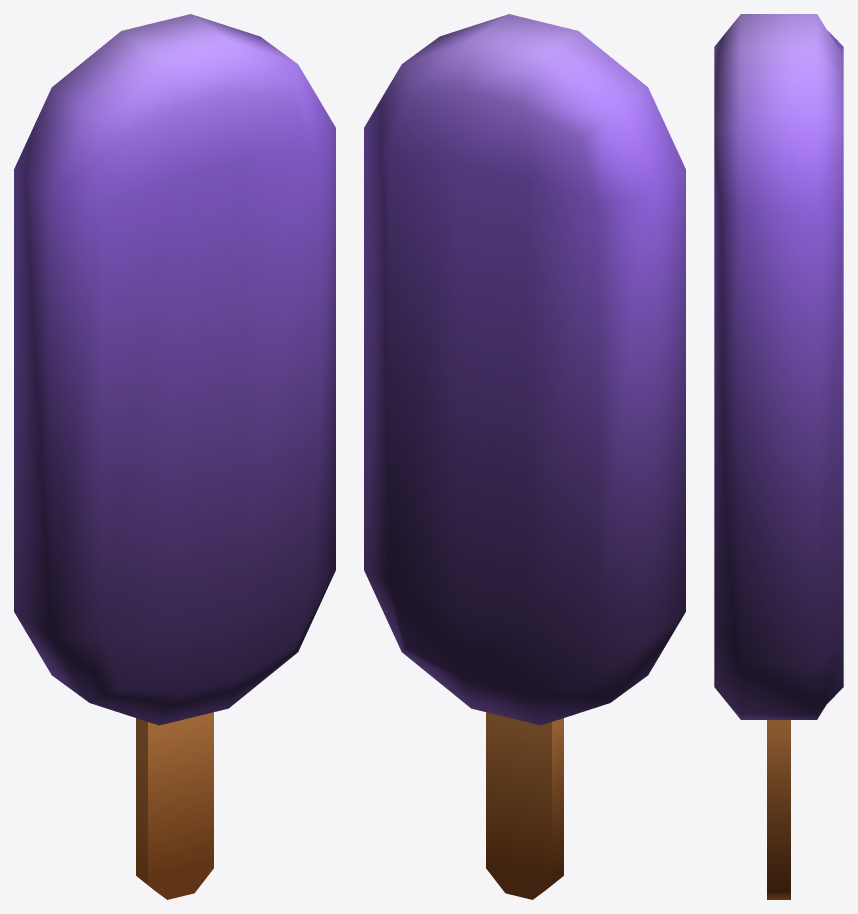
File: m_Popsicle10.fbx
3 renders of one model, left to right at view 1: azimuth 30°, elevation 25°; view 2: azimuth 150°, elevation 25°; view 3: azimuth 270°, elevation 25°, orthographic.
Parts seen in each view (by area): view 1: m_Popsicle10; view 2: m_Popsicle10; view 3: m_Popsicle10.
Part boxes in pixels (bbox=[...]): m_Popsicle10: bbox=[14, 14, 335, 899]; m_Popsicle10: bbox=[364, 14, 685, 899]; m_Popsicle10: bbox=[714, 14, 843, 899].
Size of the model in its own units: 7.98 by 22.99 by 3.12.
